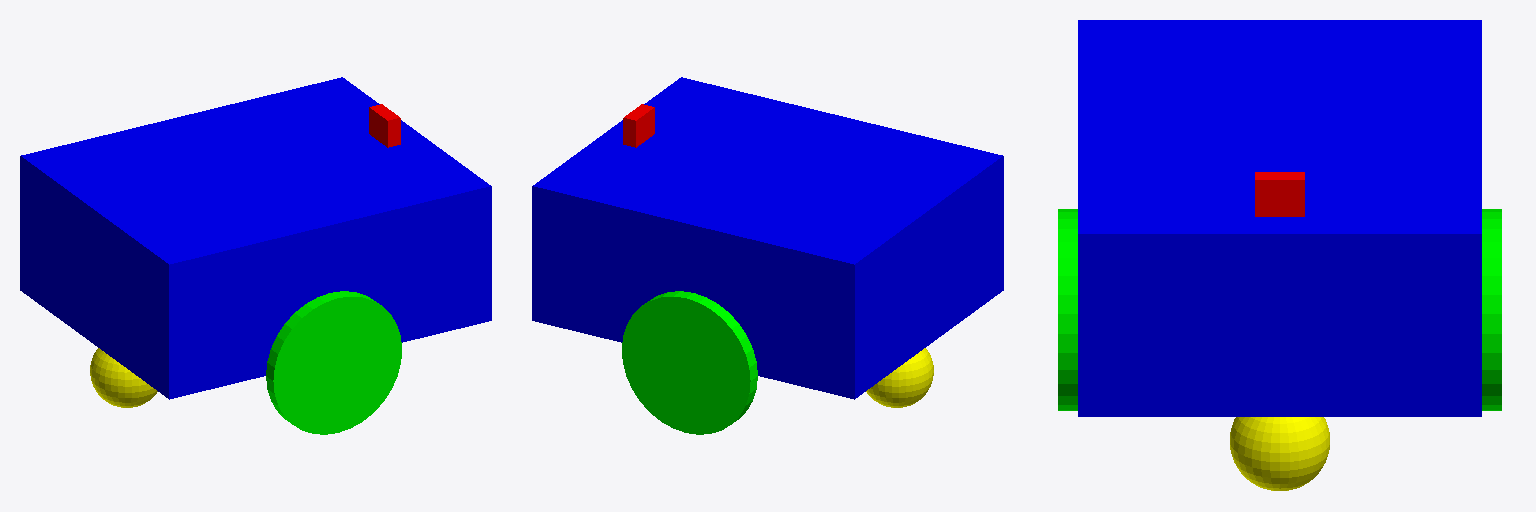
URDF robot description (mycar):
<?xml version="1.0" encoding="UTF-8"?>
<robot name="mycar">
    <link name="base_footprint">
        <visual>
            <geometry>
                <sphere radius="0.001" />
            </geometry>
        </visual>
    </link>

    <link name="base_link">
        <visual>
            <geometry>
                <box size="0.5 0.4 0.2" />
            </geometry>
            <origin xyz="0 0 0" rpy="0 0 0" />
            <material name="blue">
                <color rgba="0 0 1 0.5" />
            </material>
        </visual>
    </link>

    <joint name="base_link2base_footprint" type="fixed" >
        <parent link="base_footprint" />
        <child link="base_link" />
        <origin xyz="0 0 0.1" />
    </joint>

    <link name="left_wheel">
        <visual>
            <geometry>
                <cylinder radius= "0.1" length="0.02" />
            </geometry>
            <material name="green" >
                <color rgba="0 1 0 1" />
            </material>
            <origin xyz="0 0 0" rpy="1.57 0 0 " />
        </visual>
    </link>
    <link name="right_wheel">
        <visual>
            <geometry>
                <cylinder radius= "0.1" length="0.02" />
            </geometry>
            <material name="green" >
                <color rgba="0 1 0 1" />
            </material>
            <origin xyz="0 0 0" rpy="-1.57 0 0 " />
        </visual>
    </link>

    <joint name="left_wheel_base" type="continuous">
        <parent link="base_link" />
        <child link="left_wheel" />
        <origin xyz="0 0.21 -0.1" rpy="0 0 0" />
        <axis xyz="0 1 0" />
    </joint>
    <joint name="right_wheel_base" type="continuous">
        <parent link="base_link" />
        <child link="right_wheel" />
        <origin xyz="0 -0.21 -0.1" rpy="0 0 0" />
        <axis xyz="0 1 0" />
    </joint>

    <link name="front_wheel">
        <visual>
            <geometry>
                <sphere radius="0.05" />
            </geometry>
            <origin xyz="0 0 0" rpy="0 0 0" />
            <material name="yellow">
                <color rgba="1 1 0 1" />
            </material>
        </visual>
    </link>

    <joint name="front_wheel_base" type="continuous" >
        <parent link="base_link" />
        <child link="front_wheel" />
        <origin xyz="0.2 0 -0.15" rpy="0 0 0" />
        <axis xyz="1 1 1" />
    </joint>

    <link name="back_wheel">
        <visual>
            <geometry>
                <sphere radius="0.05" />
            </geometry>
            <origin xyz="0 0 0" rpy="0 0 0" />
            <material name="yellow">
                <color rgba="1 1 0 1" />
            </material>
        </visual>
    </link>

    <joint name="back_wheel_base" type="continuous" >
        <parent link="base_link" />
        <child link="back_wheel" />
        <origin xyz="-0.2 0 -0.15" rpy="0 0 0" />
        <axis xyz="1 1 1" />
    </joint>

    <link name="camera">
        <visual>
            <geometry>
                <box size="0.02 0.05 0.04" />
            </geometry>
            <origin xyz="0 0 0" rpy="0 0 0" />
            <material name="red">
                <color rgba="1 0 0 0.5" />
            </material>
        </visual>
    </link>

    <joint name="camera2baselink" type="continuous">
        <parent link="base_link" />
        <child link="camera" />
        <origin xyz="0.2 0 0.12" rpy="0 0 0" />
        <axis xyz="0 0 1" />
    </joint>

</robot>

--- What the picture shows (computed from the rendered views, not written in the file) ---
The picture shows the robot from 3 angles, left to right: view 1: azimuth 30°, elevation 25°; view 2: azimuth 150°, elevation 25°; view 3: azimuth 270°, elevation 25°; orthographic projection.
Model mycar with 7 links and 6 joints (5 continuous, 1 fixed), rooted at base_footprint, posed all joints at 0.
Visible links, largest first — view 1: base_link, right_wheel, back_wheel, camera; view 2: base_link, left_wheel, back_wheel, camera; view 3: base_link, front_wheel, left_wheel, right_wheel, camera.
Link boxes in pixels (x1,y1,x2,y2): base_link: [20, 77, 491, 399]; right_wheel: [266, 291, 401, 434]; back_wheel: [90, 348, 157, 407]; camera: [369, 104, 400, 147]; base_link: [532, 77, 1003, 399]; left_wheel: [622, 291, 757, 434]; back_wheel: [866, 348, 933, 407]; camera: [623, 104, 654, 147]; base_link: [1078, 20, 1481, 416]; front_wheel: [1230, 417, 1329, 490]; left_wheel: [1482, 209, 1501, 410]; right_wheel: [1058, 209, 1077, 410]; camera: [1255, 172, 1304, 216].
Size in the robot's own frame: 0.5 by 0.4402 by 0.34 metres.
Geometry: primitives only (box / cylinder / sphere), no mesh files.